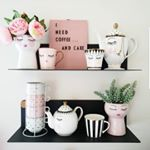cups: (37, 45, 66, 71), (83, 112, 111, 138)
